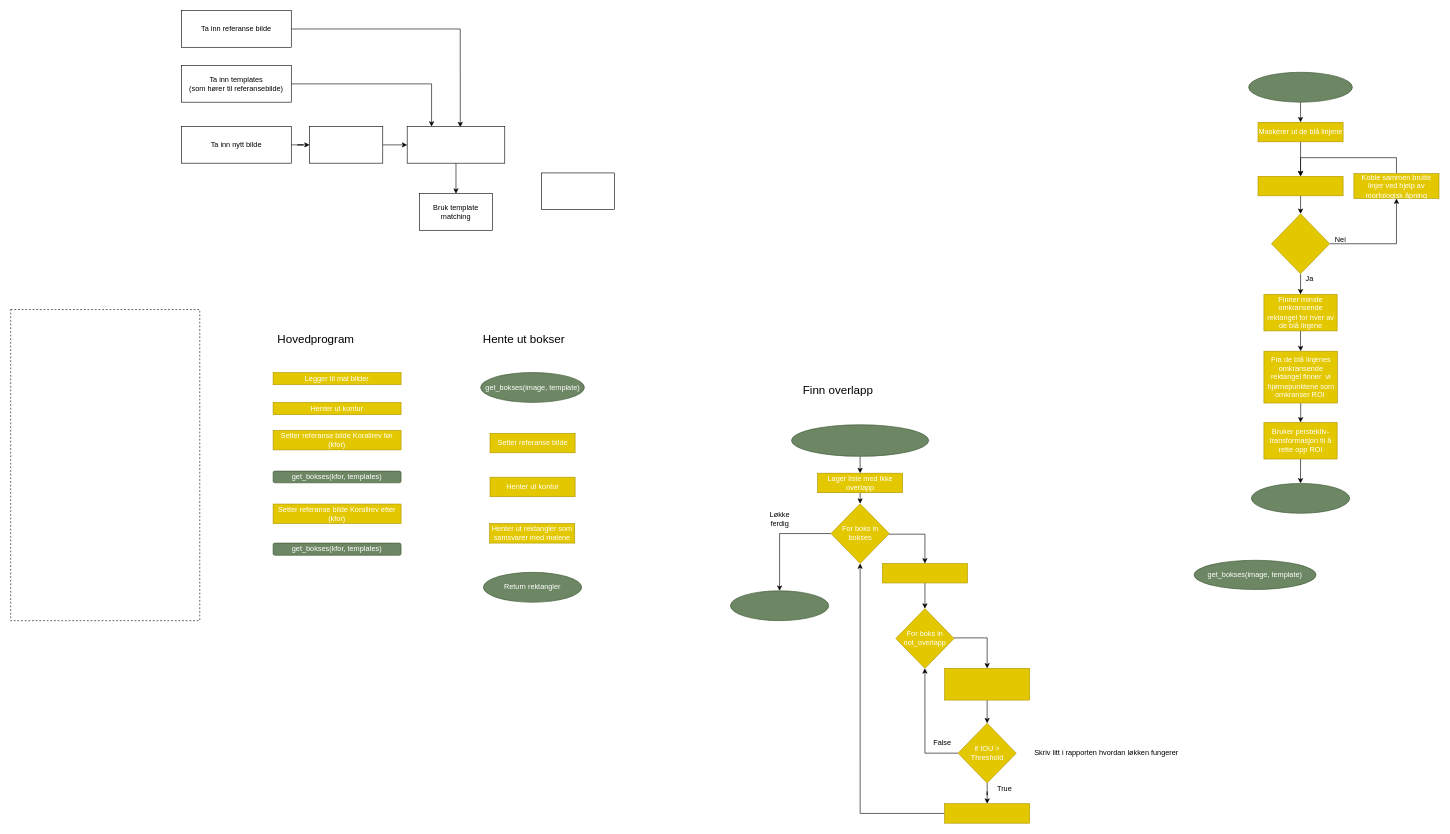
This 1450x834 diagram has some shape labels left out. The shapes that lost their labels are listed below. From the top down, each one's box as (x1, y1, x2, y2) in pixels, then its label:
(1248, 72, 1352, 102): Object.remove()
(309, 126, 383, 163): Skalere til referanse
(407, 126, 505, 163): Hent ut kontur av bilde
(541, 172, 615, 210): Kontur
(1257, 176, 1343, 196): Finn de to største konturene
(1271, 213, 1330, 274): Er linjene så lange de skal være?
(791, 424, 929, 456): find_overlap(bokses, threshold)
(1251, 483, 1350, 513): Returner
(882, 563, 967, 583): Overlapp = False
(730, 590, 829, 621): Return ikke_overlapp_liste
(944, 668, 1030, 700): regner ut IOU mellom boks og ikke_overlapp boks
(944, 803, 1030, 823): Legg til boks i ikke overlapp
